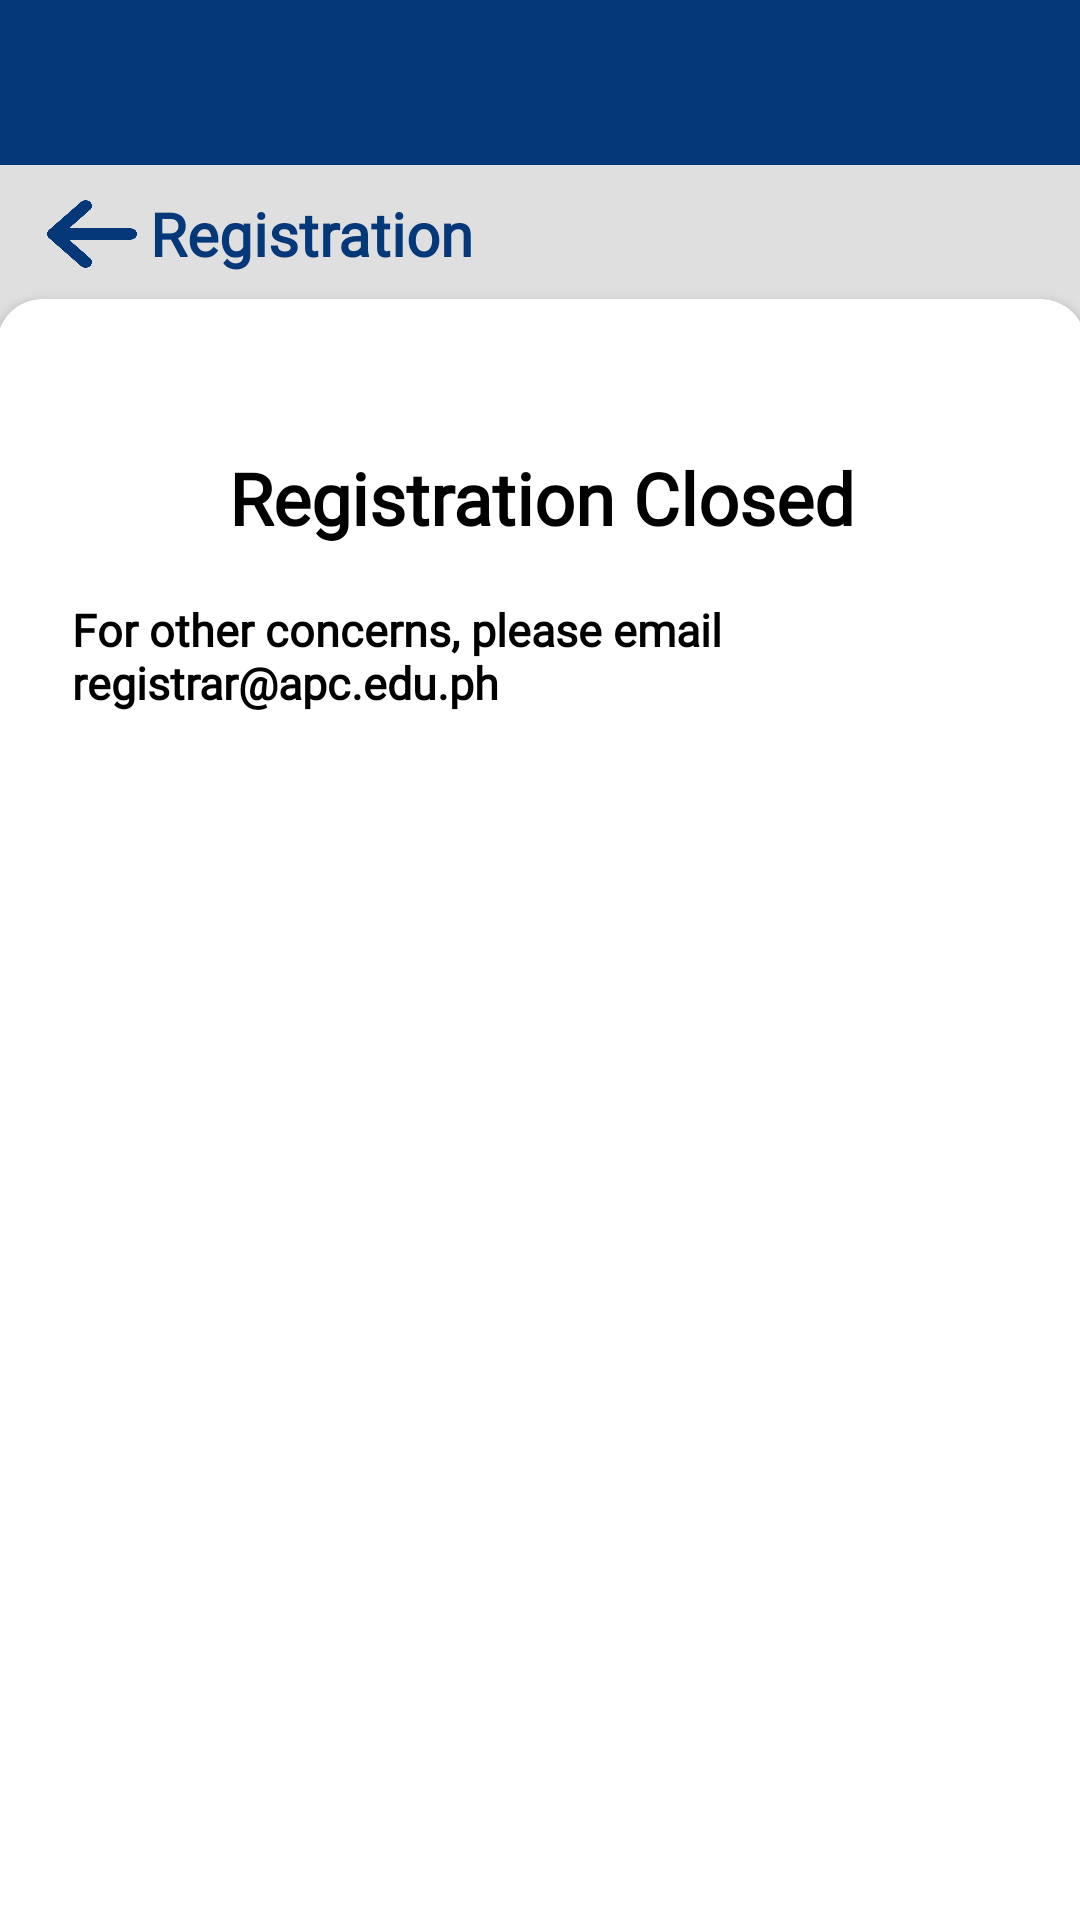

Named icons in this screenshot (1080x1920) and their centers, (x,y):
arrow leftbutton: (92,234)
